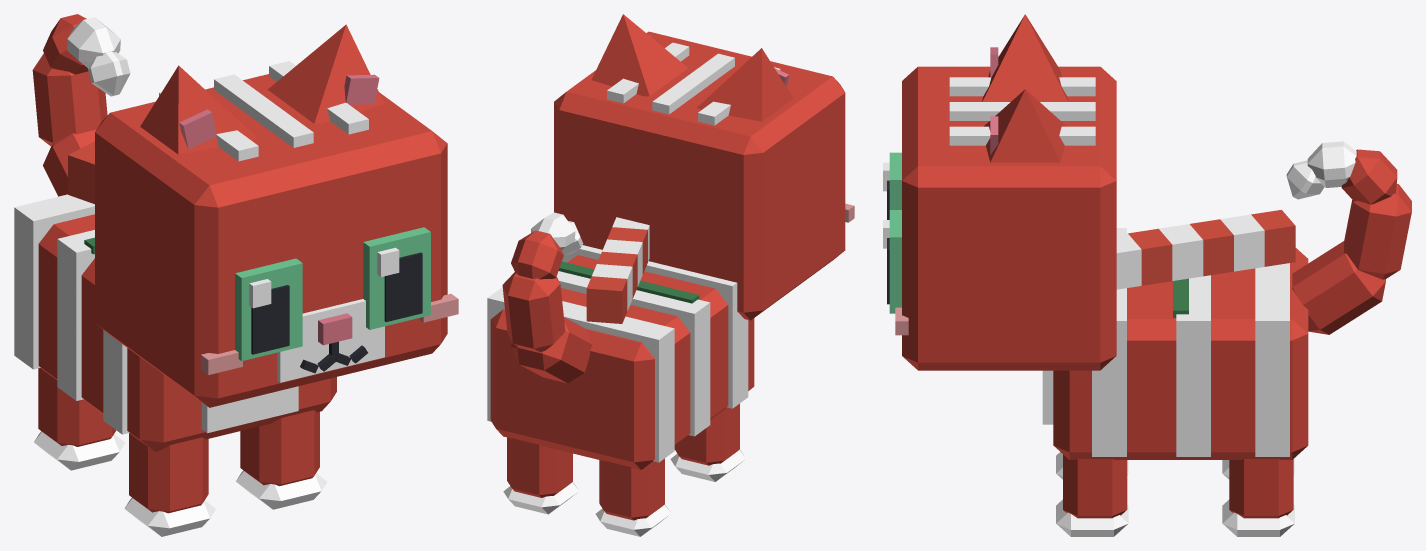
File: CatCafe_Cat_CandyCane.glb
3 renders of one model, left to right at view 1: azimuth 30°, elevation 25°; view 2: azimuth 150°, elevation 25°; view 3: azimuth 270°, elevation 25°, orthographic. The views are drawn at different scales.
Parts seen in each view (by area): view 1: CatCafe_Cat_CandyCane_Head, CatCafe_Cat_CandyCane_Body, CatCafe_Cat_CandyCane_Tail, CatCafe_Cat_CandyCane_LegF2, CatCafe_Cat_CandyCane_LegF1, CatCafe_Cat_CandyCane_Eye2, CatCafe_Cat_CandyCane_Eye1, CatCafe_Cat_CandyCane_EarL, CatCafe_Cat_CandyCane_LegB2, CatCafe_Cat_CandyCane_EarR, CatCafe_Cat_CandyCane_Prop; view 2: CatCafe_Cat_CandyCane_Head, CatCafe_Cat_CandyCane_Body, CatCafe_Cat_CandyCane_Tail, CatCafe_Cat_CandyCane_Prop, CatCafe_Cat_CandyCane_LegB2, CatCafe_Cat_CandyCane_LegB1, CatCafe_Cat_CandyCane_EarL, CatCafe_Cat_CandyCane_EarR, CatCafe_Cat_CandyCane_LegF2; view 3: CatCafe_Cat_CandyCane_Head, CatCafe_Cat_CandyCane_Body, CatCafe_Cat_CandyCane_Tail, CatCafe_Cat_CandyCane_Prop, CatCafe_Cat_CandyCane_LegF1, CatCafe_Cat_CandyCane_LegB1, CatCafe_Cat_CandyCane_EarR, CatCafe_Cat_CandyCane_EarL, CatCafe_Cat_CandyCane_Eye1, CatCafe_Cat_CandyCane_Eye2.
Boxes of the visible parts, x1,y1,x2,y2 form: CatCafe_Cat_CandyCane_Head: (95, 61, 458, 407); CatCafe_Cat_CandyCane_Body: (14, 194, 336, 451); CatCafe_Cat_CandyCane_Tail: (32, 14, 130, 196); CatCafe_Cat_CandyCane_LegF2: (124, 433, 215, 536); CatCafe_Cat_CandyCane_LegF1: (236, 410, 327, 509); CatCafe_Cat_CandyCane_Eye2: (235, 258, 302, 361); CatCafe_Cat_CandyCane_Eye1: (363, 227, 430, 329); CatCafe_Cat_CandyCane_EarL: (267, 24, 384, 123); CatCafe_Cat_CandyCane_LegB2: (34, 368, 125, 470); CatCafe_Cat_CandyCane_EarR: (140, 65, 256, 154); CatCafe_Cat_CandyCane_Prop: (68, 141, 94, 254); CatCafe_Cat_CandyCane_Head: (554, 31, 854, 320); CatCafe_Cat_CandyCane_Body: (487, 245, 754, 469); CatCafe_Cat_CandyCane_Tail: (502, 212, 592, 383); CatCafe_Cat_CandyCane_Prop: (558, 217, 699, 323); CatCafe_Cat_CandyCane_LegB2: (595, 458, 670, 536); CatCafe_Cat_CandyCane_LegB1: (503, 437, 578, 514); CatCafe_Cat_CandyCane_EarL: (591, 14, 687, 96); CatCafe_Cat_CandyCane_EarR: (697, 48, 793, 121); CatCafe_Cat_CandyCane_LegF2: (670, 403, 745, 481); CatCafe_Cat_CandyCane_Head: (895, 66, 1116, 370); CatCafe_Cat_CandyCane_Body: (1042, 228, 1308, 459); CatCafe_Cat_CandyCane_Tail: (1286, 141, 1411, 334); CatCafe_Cat_CandyCane_Prop: (1116, 209, 1295, 317); CatCafe_Cat_CandyCane_LegF1: (1056, 454, 1128, 536); CatCafe_Cat_CandyCane_LegB1: (1222, 459, 1294, 536); CatCafe_Cat_CandyCane_EarR: (982, 14, 1068, 101); CatCafe_Cat_CandyCane_EarL: (984, 89, 1066, 162); CatCafe_Cat_CandyCane_Eye1: (883, 210, 901, 313); CatCafe_Cat_CandyCane_Eye2: (883, 152, 901, 219).
Bounding box in the file's own units: 1 × 1.86 × 1.97.
1 material, 1 textured.
